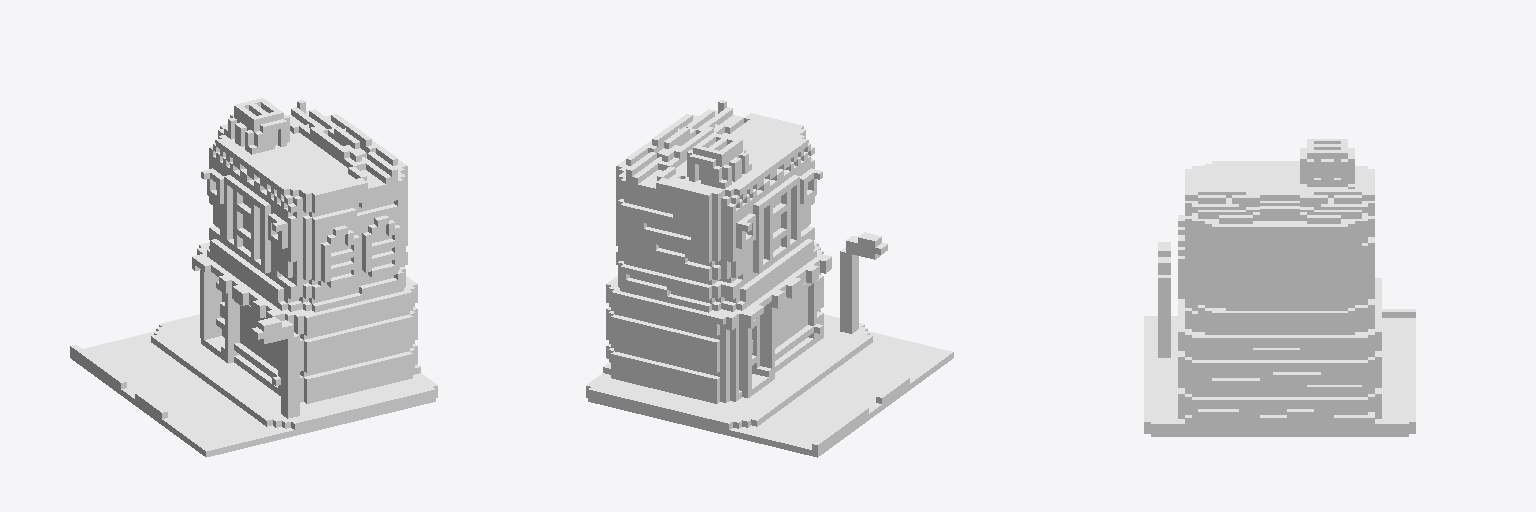
The model's file is Voxel_House.obj.
3 renders of one model, left to right at view 1: azimuth 30°, elevation 25°; view 2: azimuth 150°, elevation 25°; view 3: azimuth 270°, elevation 25°, orthographic.
Visible parts, largest first — view 1: object 1; view 2: object 1; view 3: object 1.
Boxes of the visible parts, box(x1,y1,x2,y2) form: object 1: box(70, 98, 437, 457); object 1: box(586, 100, 953, 457); object 1: box(1144, 139, 1415, 436).
Bounding box in the file's own units: 4 × 4 × 4.